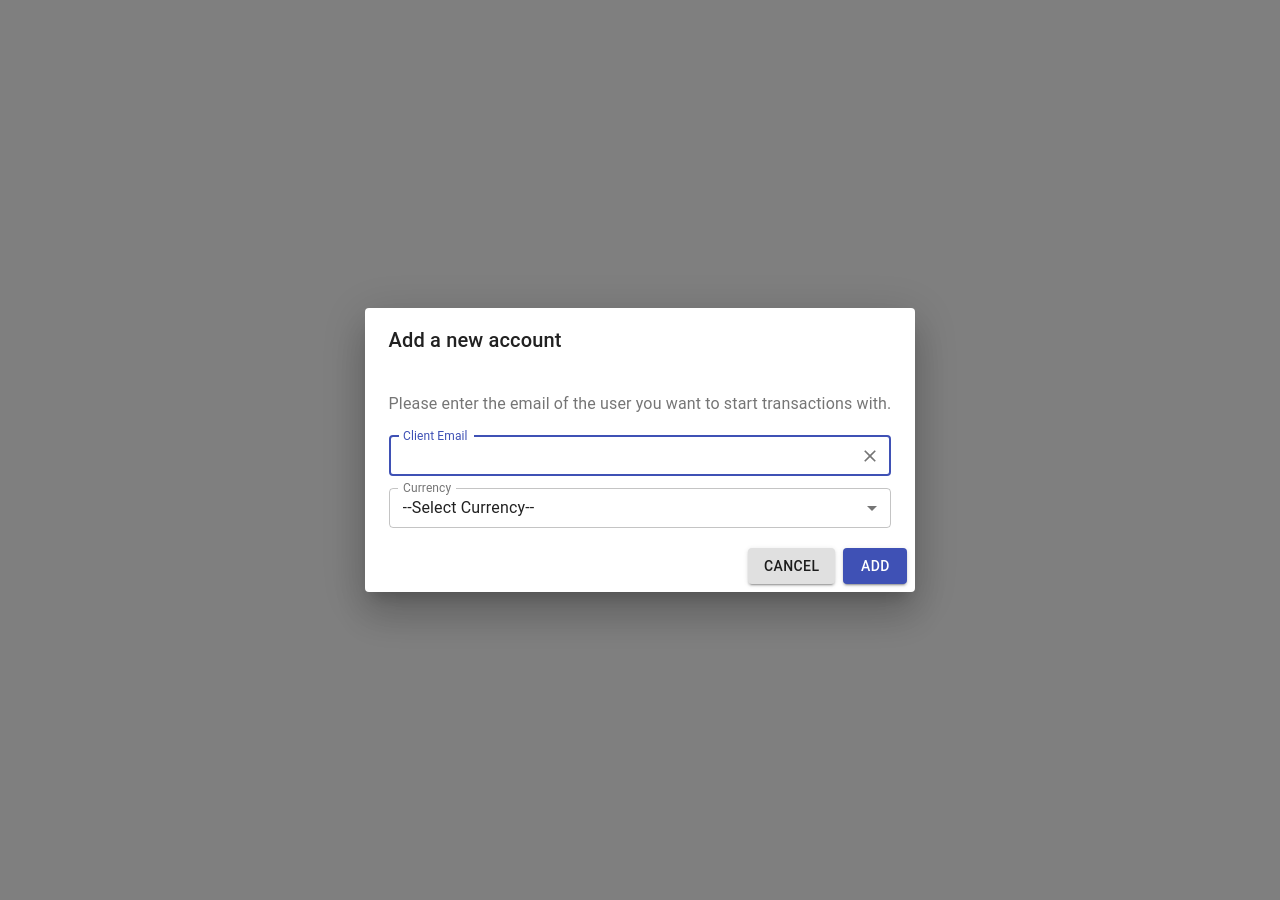
Scenario: AddTransactionDialog component › informs user that a request will be sent if the email is not in the options
Type "new@email.com" into the field labelled "Client Email" at (624, 456), box x1=395 y1=442 x2=852 y2=470
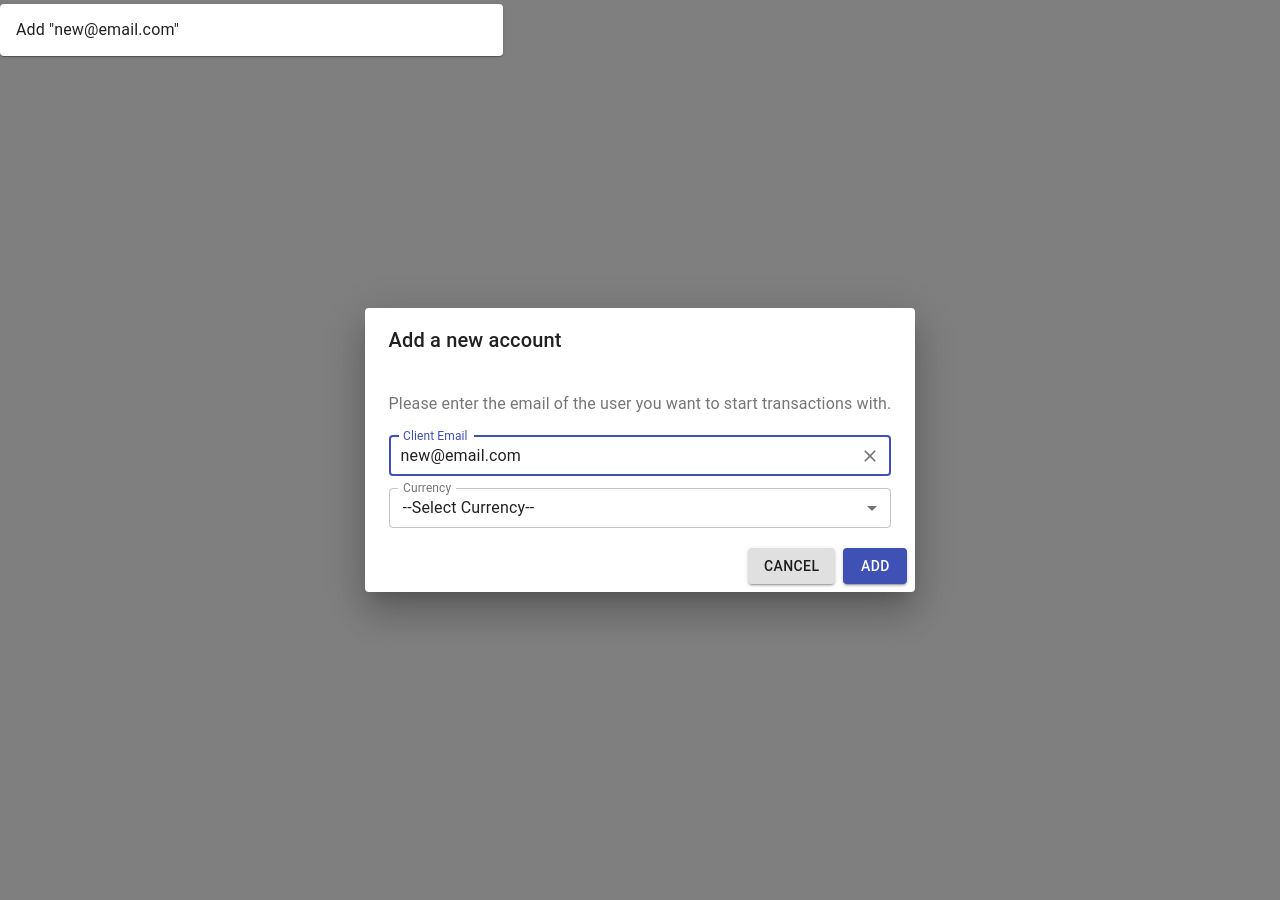
Leave the field labelled "Client Email", box x1=395 y1=442 x2=852 y2=470
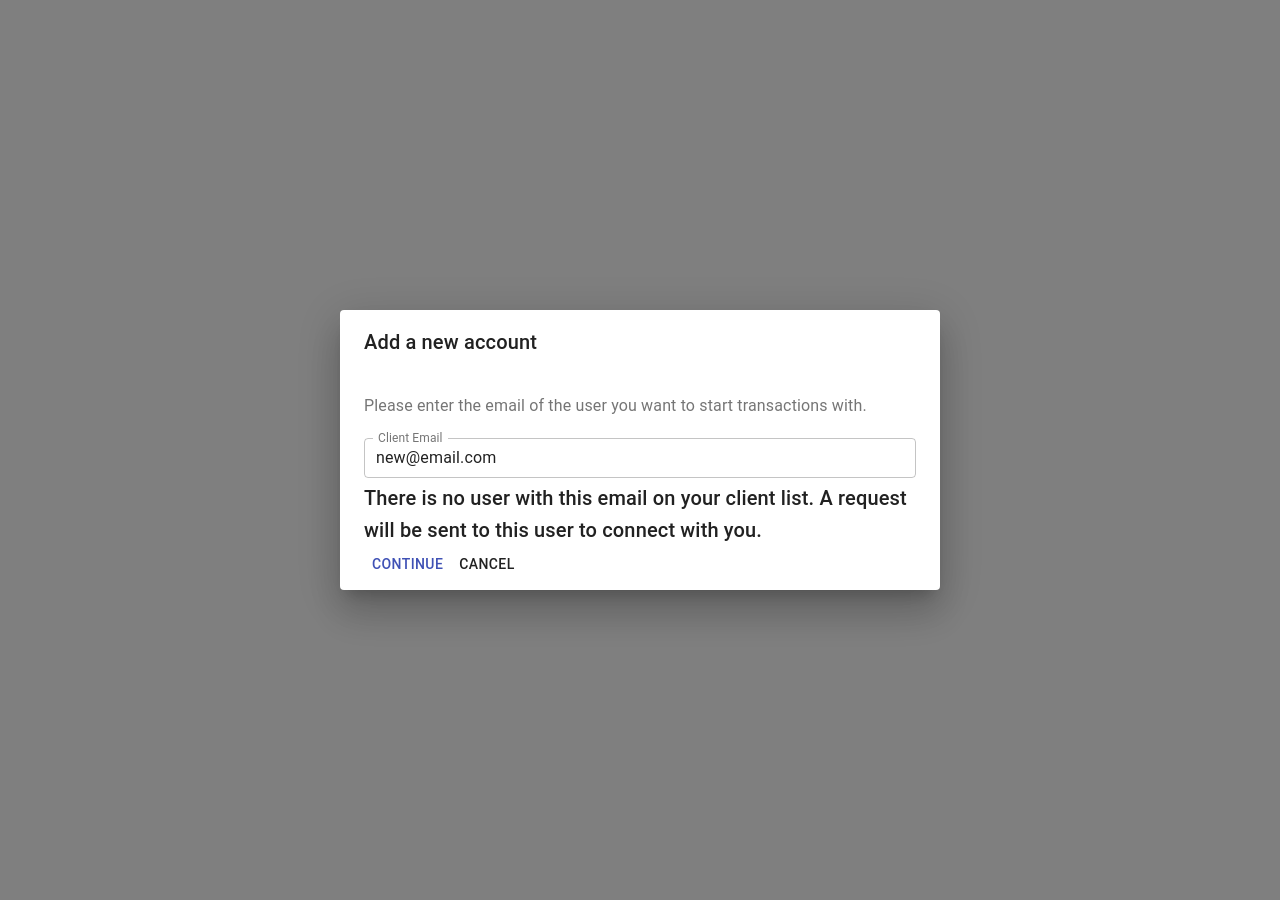
Now the heading "There is no user with this email" is shown, box x1=364 y1=486 x2=907 y2=542
